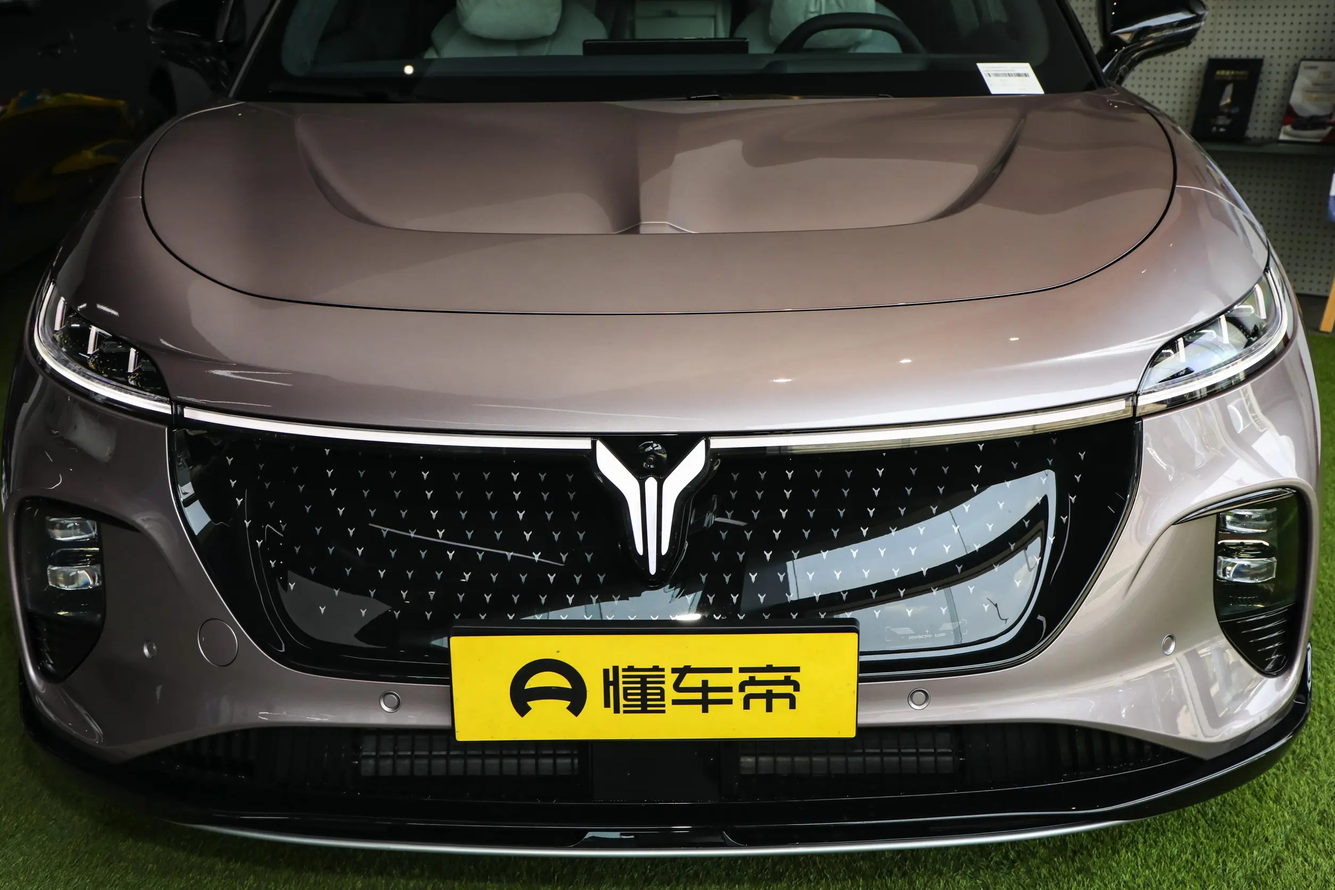VOYAH: (597, 440, 705, 574)
